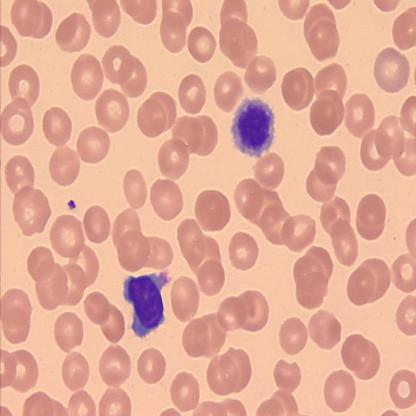NRC: (121, 270, 170, 340), (229, 94, 278, 160)
